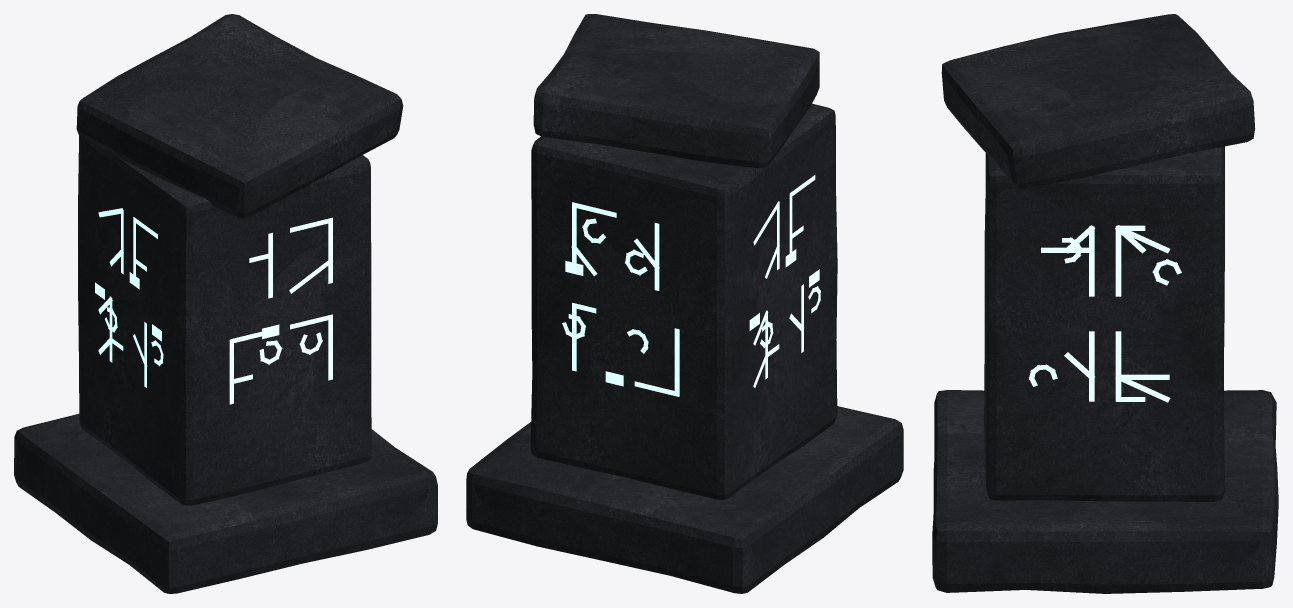
File: Ruina_Bloco_Runas.fbx
3 renders of one model, left to right at view 1: azimuth 30°, elevation 25°; view 2: azimuth 150°, elevation 25°; view 3: azimuth 270°, elevation 25°, orthographic. The views are drawn at different scales.
Parts seen in each view (by area): view 1: Ruina_Bloco_Runas_LOD0; view 2: Ruina_Bloco_Runas_LOD0; view 3: Ruina_Bloco_Runas_LOD0.
Boxes of the visible parts, x1=… form: Ruina_Bloco_Runas_LOD0: x1=14, y1=14, x2=437, y2=593; Ruina_Bloco_Runas_LOD0: x1=466, y1=14, x2=903, y2=593; Ruina_Bloco_Runas_LOD0: x1=932, y1=14, x2=1278, y2=593.
Size of what is drawn, in the model's own units: 1.79 by 2.7 by 1.79.
